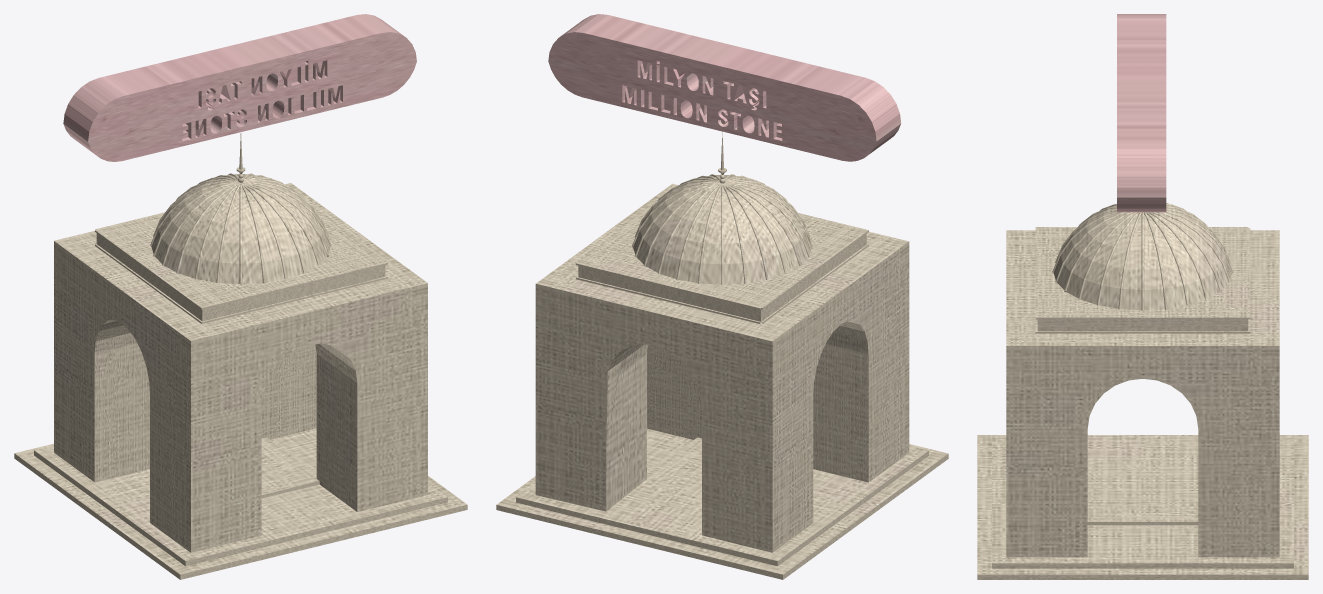
File: asset.glb
3 renders of one model, left to right at view 1: azimuth 30°, elevation 25°; view 2: azimuth 150°, elevation 25°; view 3: azimuth 270°, elevation 25°, orthographic.
Bounding box in the file's own units: 202 × 253 × 177.
Materials: 3 (2 with a texture image).
